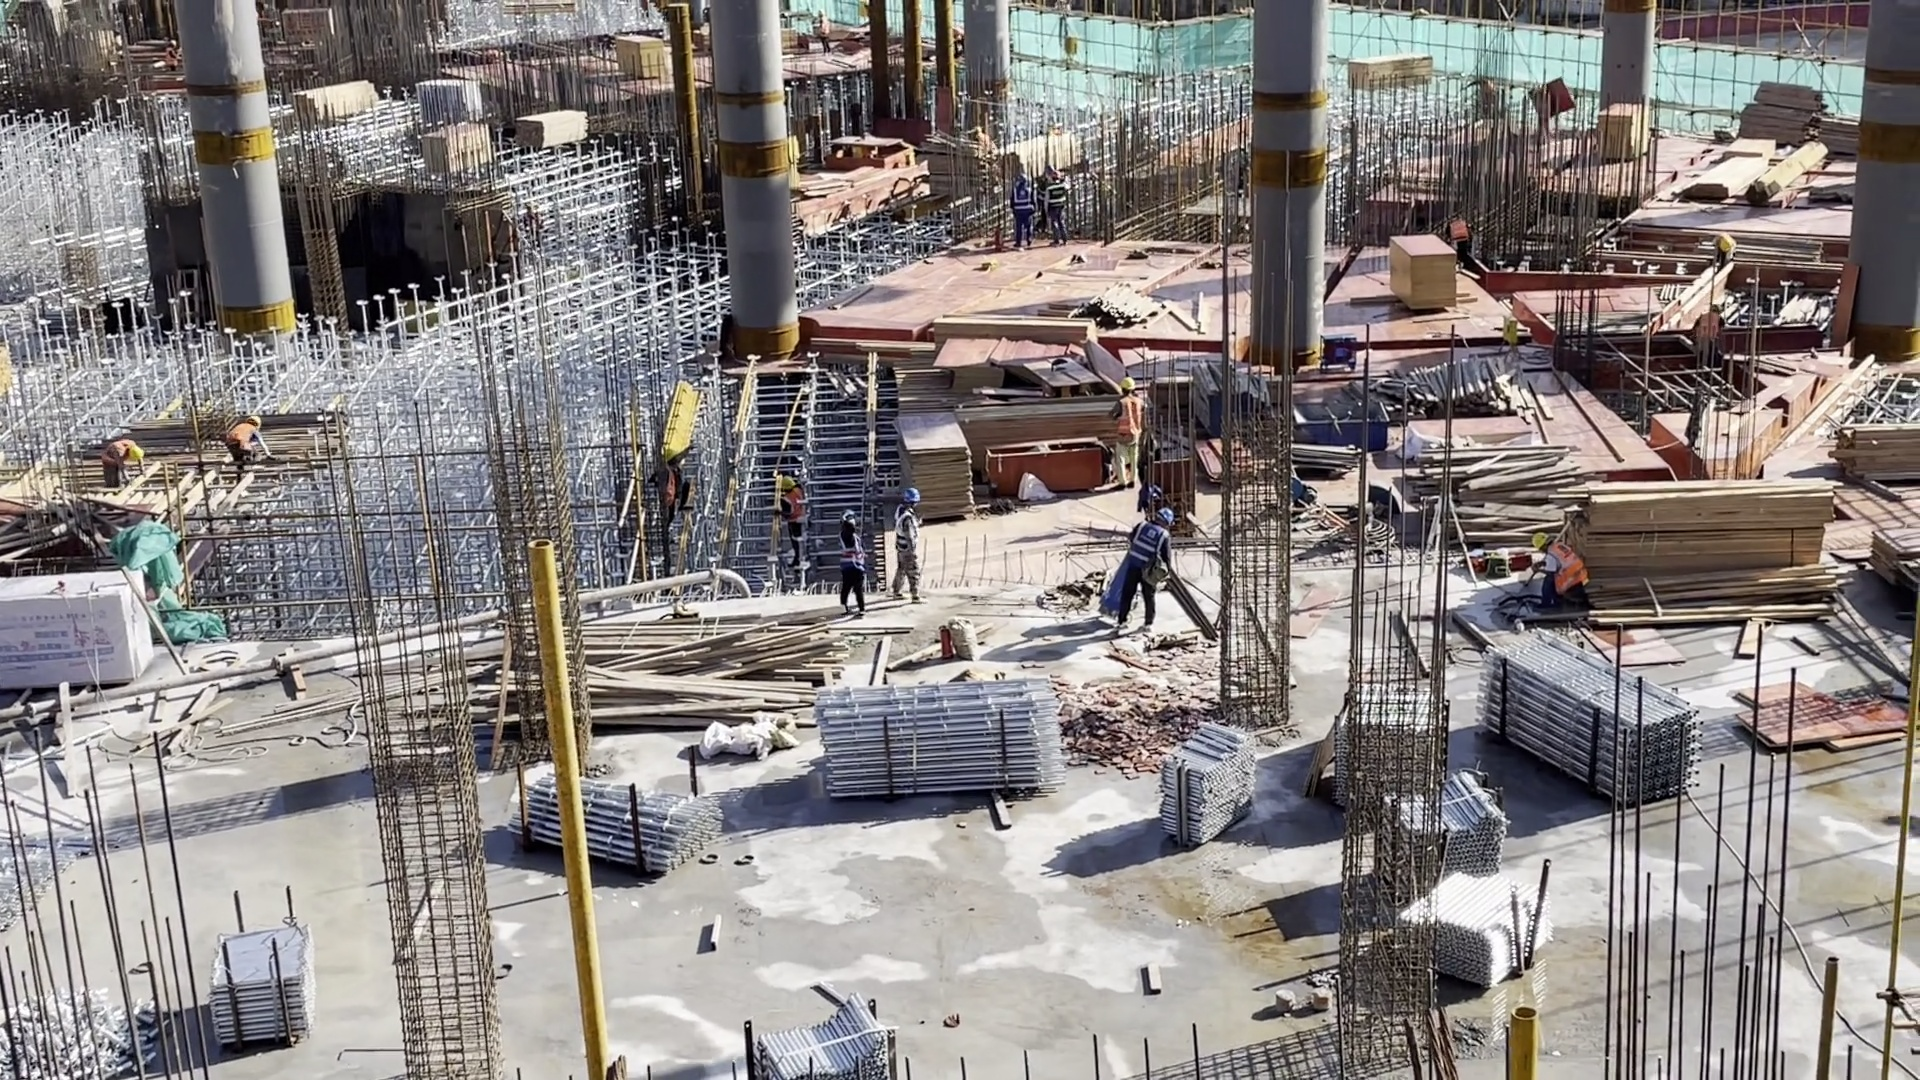board: (891, 413, 979, 520), (931, 339, 1114, 383), (1387, 233, 1461, 317), (1592, 100, 1651, 168), (418, 122, 489, 169)
helmet: (129, 443, 145, 468), (1156, 505, 1174, 524), (839, 509, 859, 525), (1533, 531, 1549, 550), (1718, 234, 1734, 251), (1121, 376, 1135, 392), (782, 472, 795, 489), (903, 490, 920, 504), (662, 448, 678, 460), (248, 414, 264, 426), (1017, 173, 1030, 186), (1049, 172, 1061, 180)
hopper: (1291, 402, 1388, 450)
person: (1119, 498, 1184, 635), (648, 446, 711, 535), (1530, 527, 1589, 616), (896, 489, 940, 604), (838, 515, 874, 619), (782, 472, 814, 554), (226, 420, 278, 464), (1047, 172, 1081, 239), (99, 439, 152, 483), (1010, 174, 1037, 254), (1712, 230, 1741, 278), (1449, 208, 1473, 268), (1693, 308, 1728, 349), (815, 9, 833, 57), (1473, 78, 1497, 106), (163, 39, 181, 67)
scaffold: (1332, 683, 1557, 987), (1477, 629, 1700, 813), (811, 675, 1070, 798), (507, 770, 722, 879), (1159, 724, 1259, 852), (211, 927, 317, 1048), (746, 990, 887, 1080)
vest: (1546, 543, 1585, 600), (1132, 519, 1167, 571), (1113, 396, 1141, 438), (896, 509, 920, 553), (841, 534, 866, 572), (228, 423, 253, 457), (783, 487, 805, 521), (102, 441, 128, 467), (1012, 185, 1033, 217), (661, 469, 678, 505), (1700, 313, 1716, 342), (1049, 183, 1066, 209)
wood: (464, 611, 844, 728), (1558, 476, 1844, 625), (1407, 445, 1567, 544), (1402, 358, 1555, 425), (958, 402, 1114, 446), (935, 311, 1090, 342), (294, 76, 382, 122), (511, 109, 589, 147)
